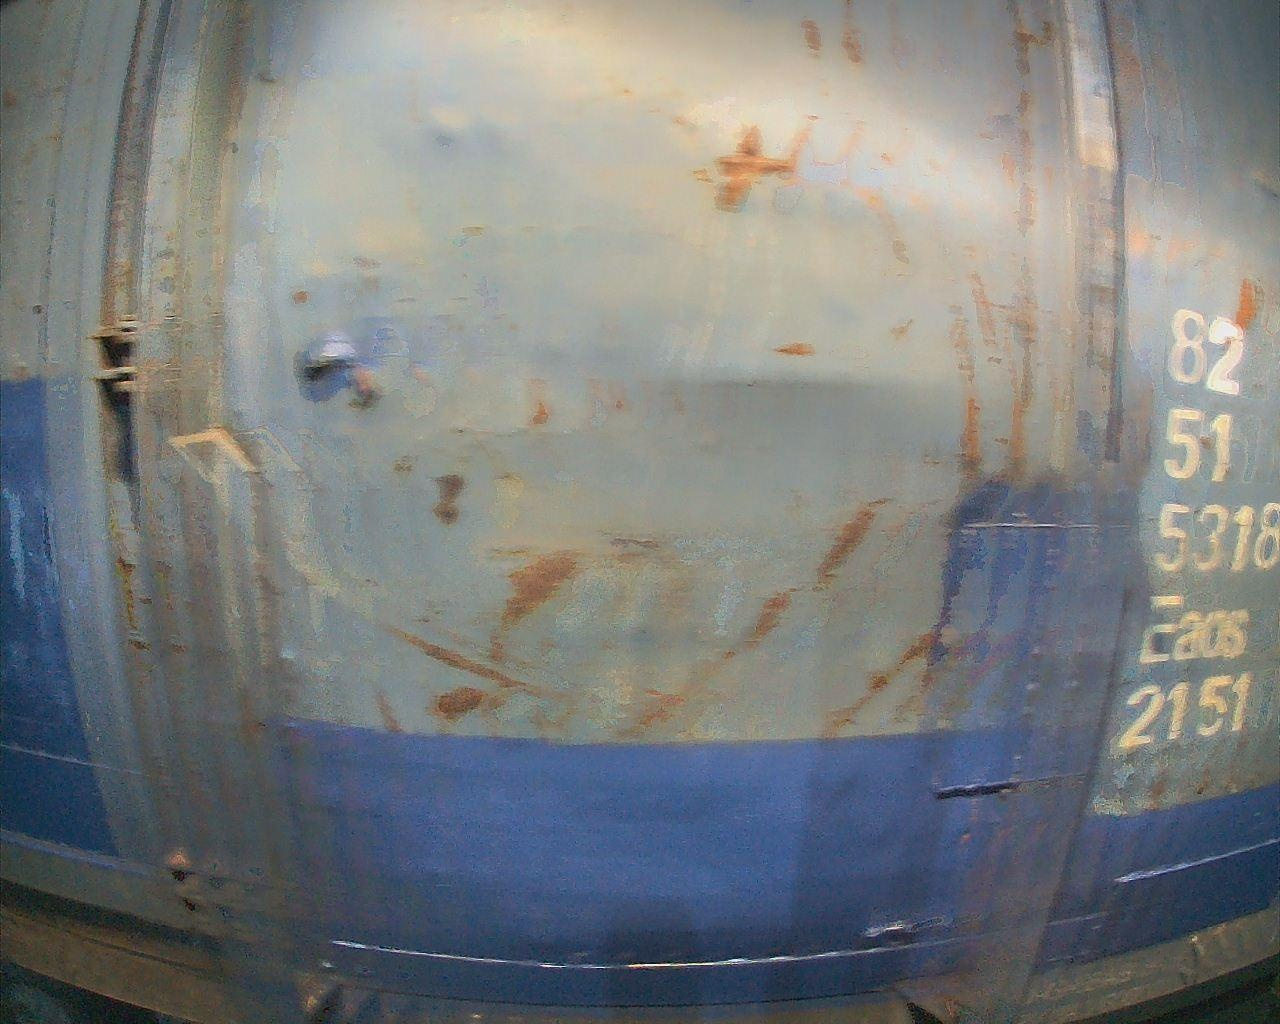UIC: (1113, 302, 1280, 766)
